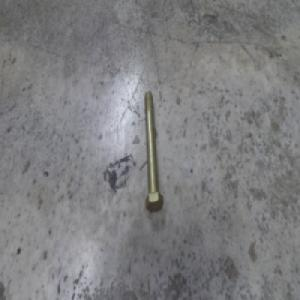Bolt: (142, 90, 163, 212)
